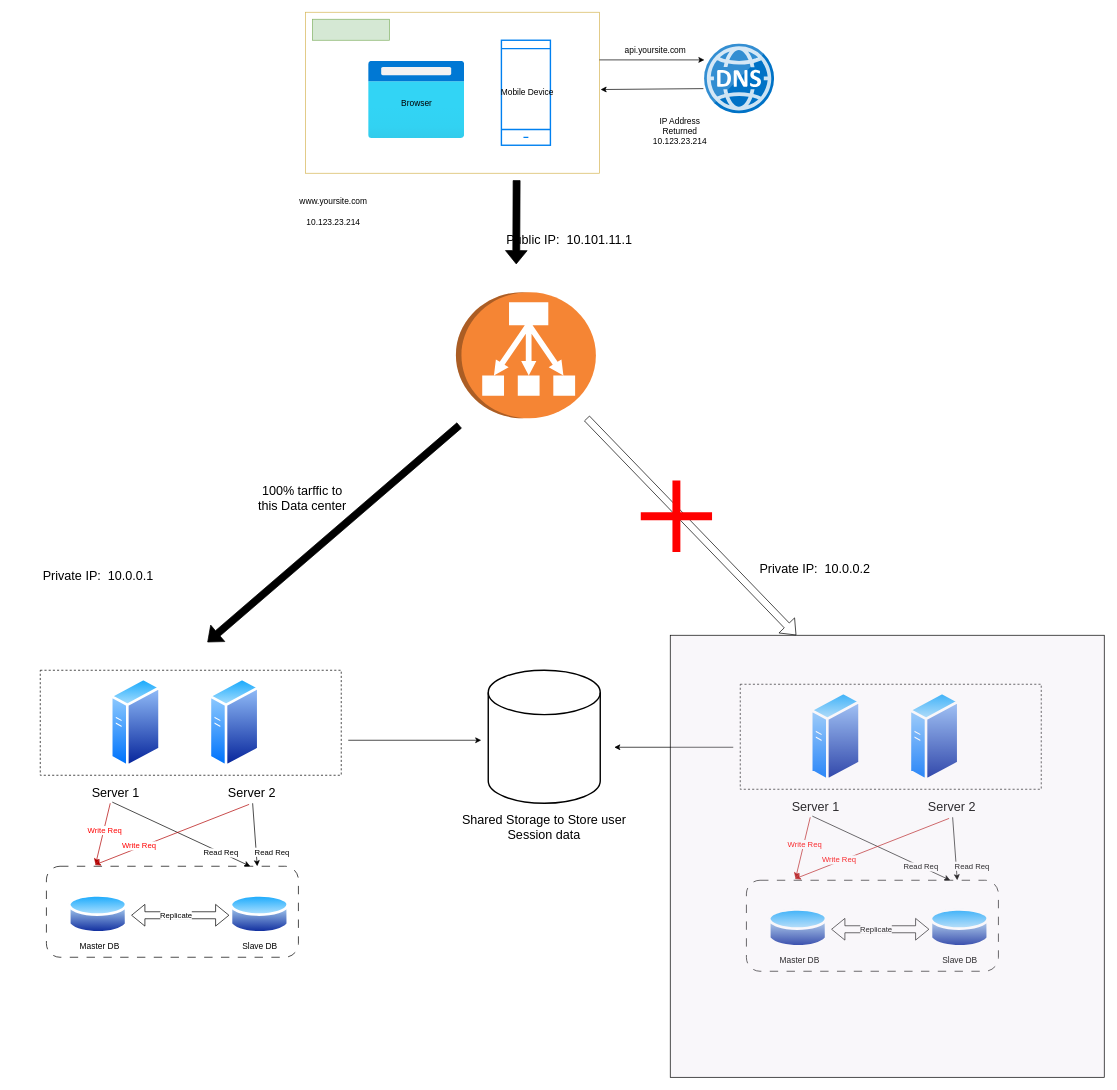
Image size: 1117x1090. Some labels were removed from this diagram. The box of each missing label's shape, as (x1, y1, x2, y2) in pixels:
No- SQL database: (487, 669, 601, 804)
User - Client Side: (312, 19, 389, 40)
